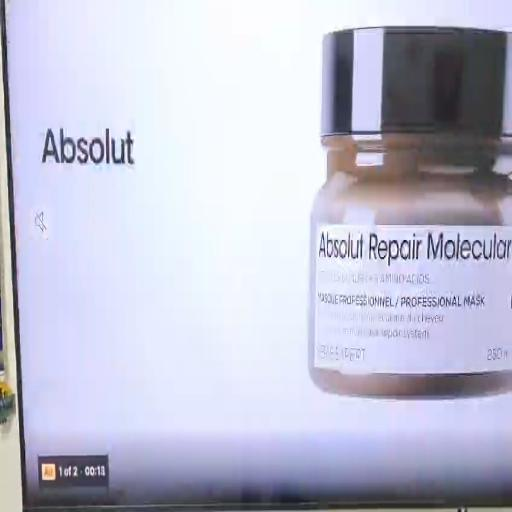ad label: (39, 458, 58, 486)
